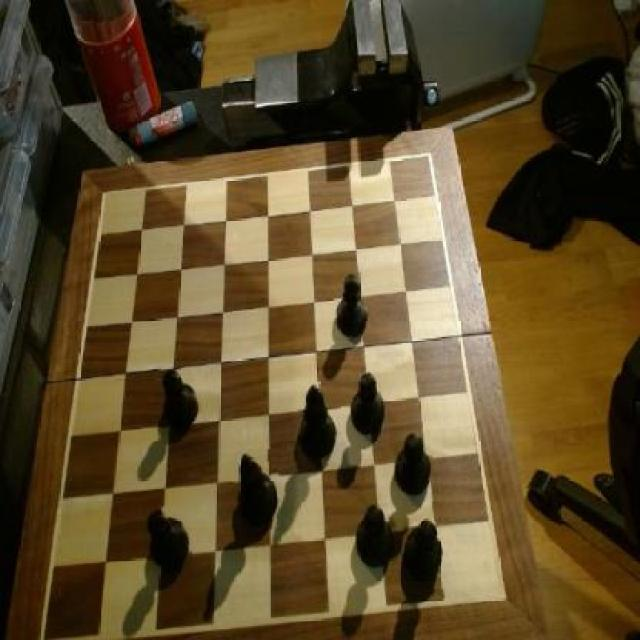bishop: (234, 449, 281, 532), (297, 380, 339, 462)
black-knight: (146, 505, 194, 576), (402, 518, 446, 590), (392, 431, 433, 504), (160, 364, 200, 436), (356, 502, 396, 572), (334, 272, 371, 342), (350, 369, 386, 435)
